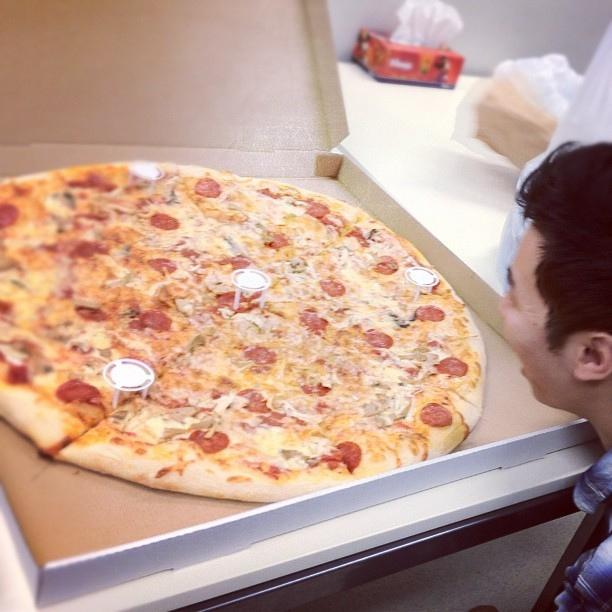mushroom: (0, 335, 52, 384), (101, 225, 144, 249), (167, 404, 200, 425), (281, 450, 317, 468), (364, 393, 391, 417), (231, 312, 263, 332), (387, 311, 416, 328), (223, 236, 245, 258), (52, 192, 76, 210), (51, 214, 73, 233), (362, 364, 391, 377), (190, 334, 207, 354), (108, 410, 128, 426), (74, 296, 100, 308), (191, 418, 216, 430), (376, 413, 396, 427), (289, 260, 307, 274), (367, 229, 384, 243), (0, 255, 14, 271), (166, 190, 179, 206), (262, 230, 275, 244), (104, 280, 124, 288), (122, 306, 140, 314), (135, 181, 151, 189), (11, 280, 24, 288), (254, 223, 268, 230), (284, 214, 296, 222), (398, 355, 415, 360), (358, 298, 370, 304), (120, 243, 129, 251)
